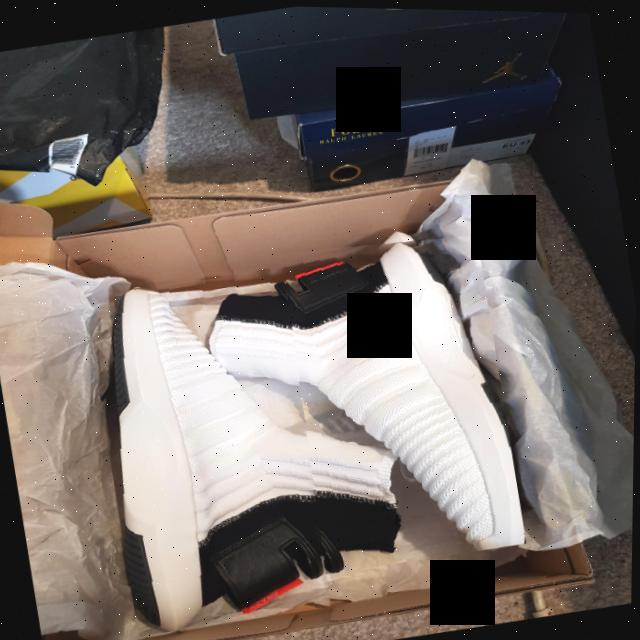shoe: (205, 212, 531, 587), (80, 259, 344, 639)
